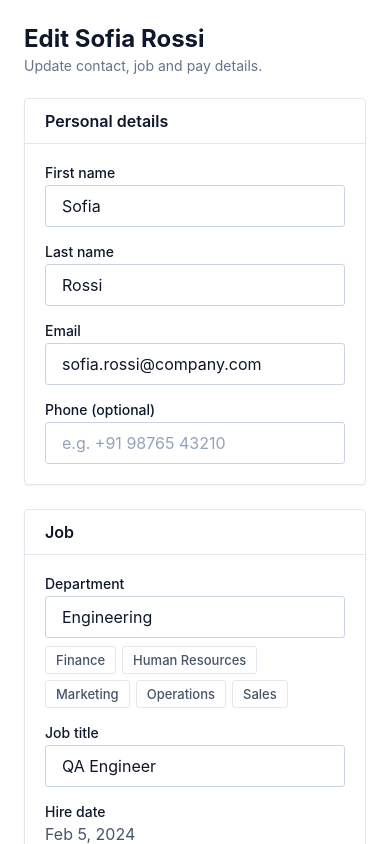
EmployeeForm when editing › suggests existing departments and fills the field when one is picked
Click the button "Finance" at point(81, 660), box [45, 646, 116, 674]
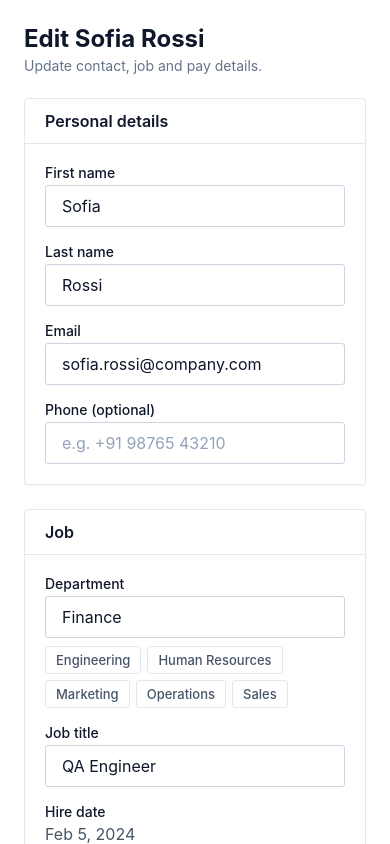
Now the field named "Department" holds "Finance", box [45, 596, 345, 638]
